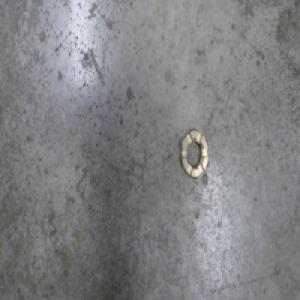Nut: (180, 126, 208, 180)
